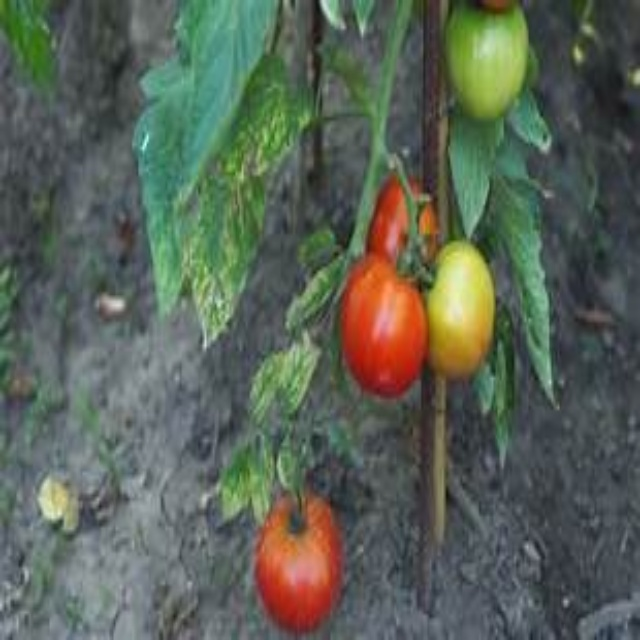tomato: (251, 499, 352, 626), (337, 259, 430, 393), (436, 3, 538, 122), (415, 247, 499, 387), (364, 178, 457, 289)
